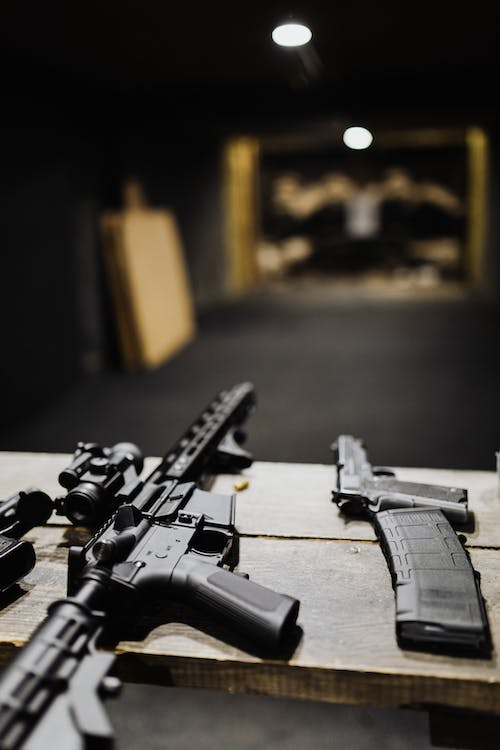gun: (0, 373, 307, 750), (325, 423, 473, 533)
